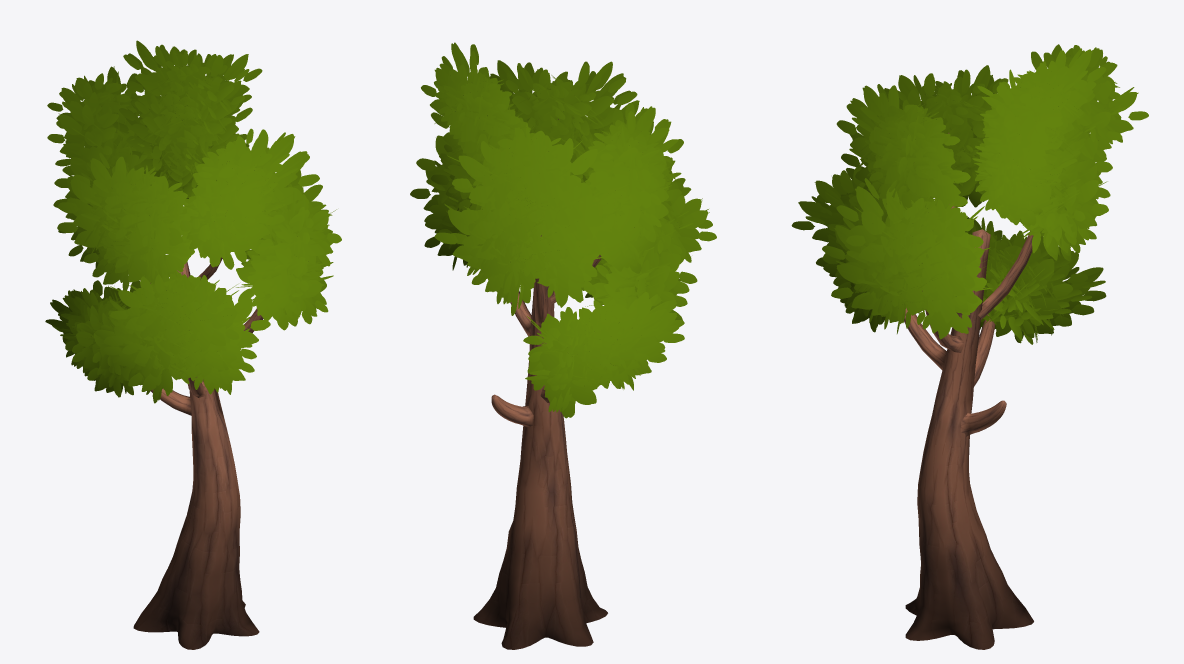
The model's file is CommonTree_5.glb.
3 renders of one model, left to right at view 1: azimuth 30°, elevation 25°; view 2: azimuth 150°, elevation 25°; view 3: azimuth 270°, elevation 25°, orthographic. The views are drawn at different scales.
Visible parts, largest first — view 1: CommonTree_5; view 2: CommonTree_5; view 3: CommonTree_5.
Part boxes in pixels (bbox=[...]): CommonTree_5: bbox=[45, 40, 341, 649]; CommonTree_5: bbox=[410, 42, 716, 649]; CommonTree_5: bbox=[791, 44, 1148, 649].
Bounding box in the file's own units: 3.67 × 7.01 × 4.22.
2 materials, 2 textured.
